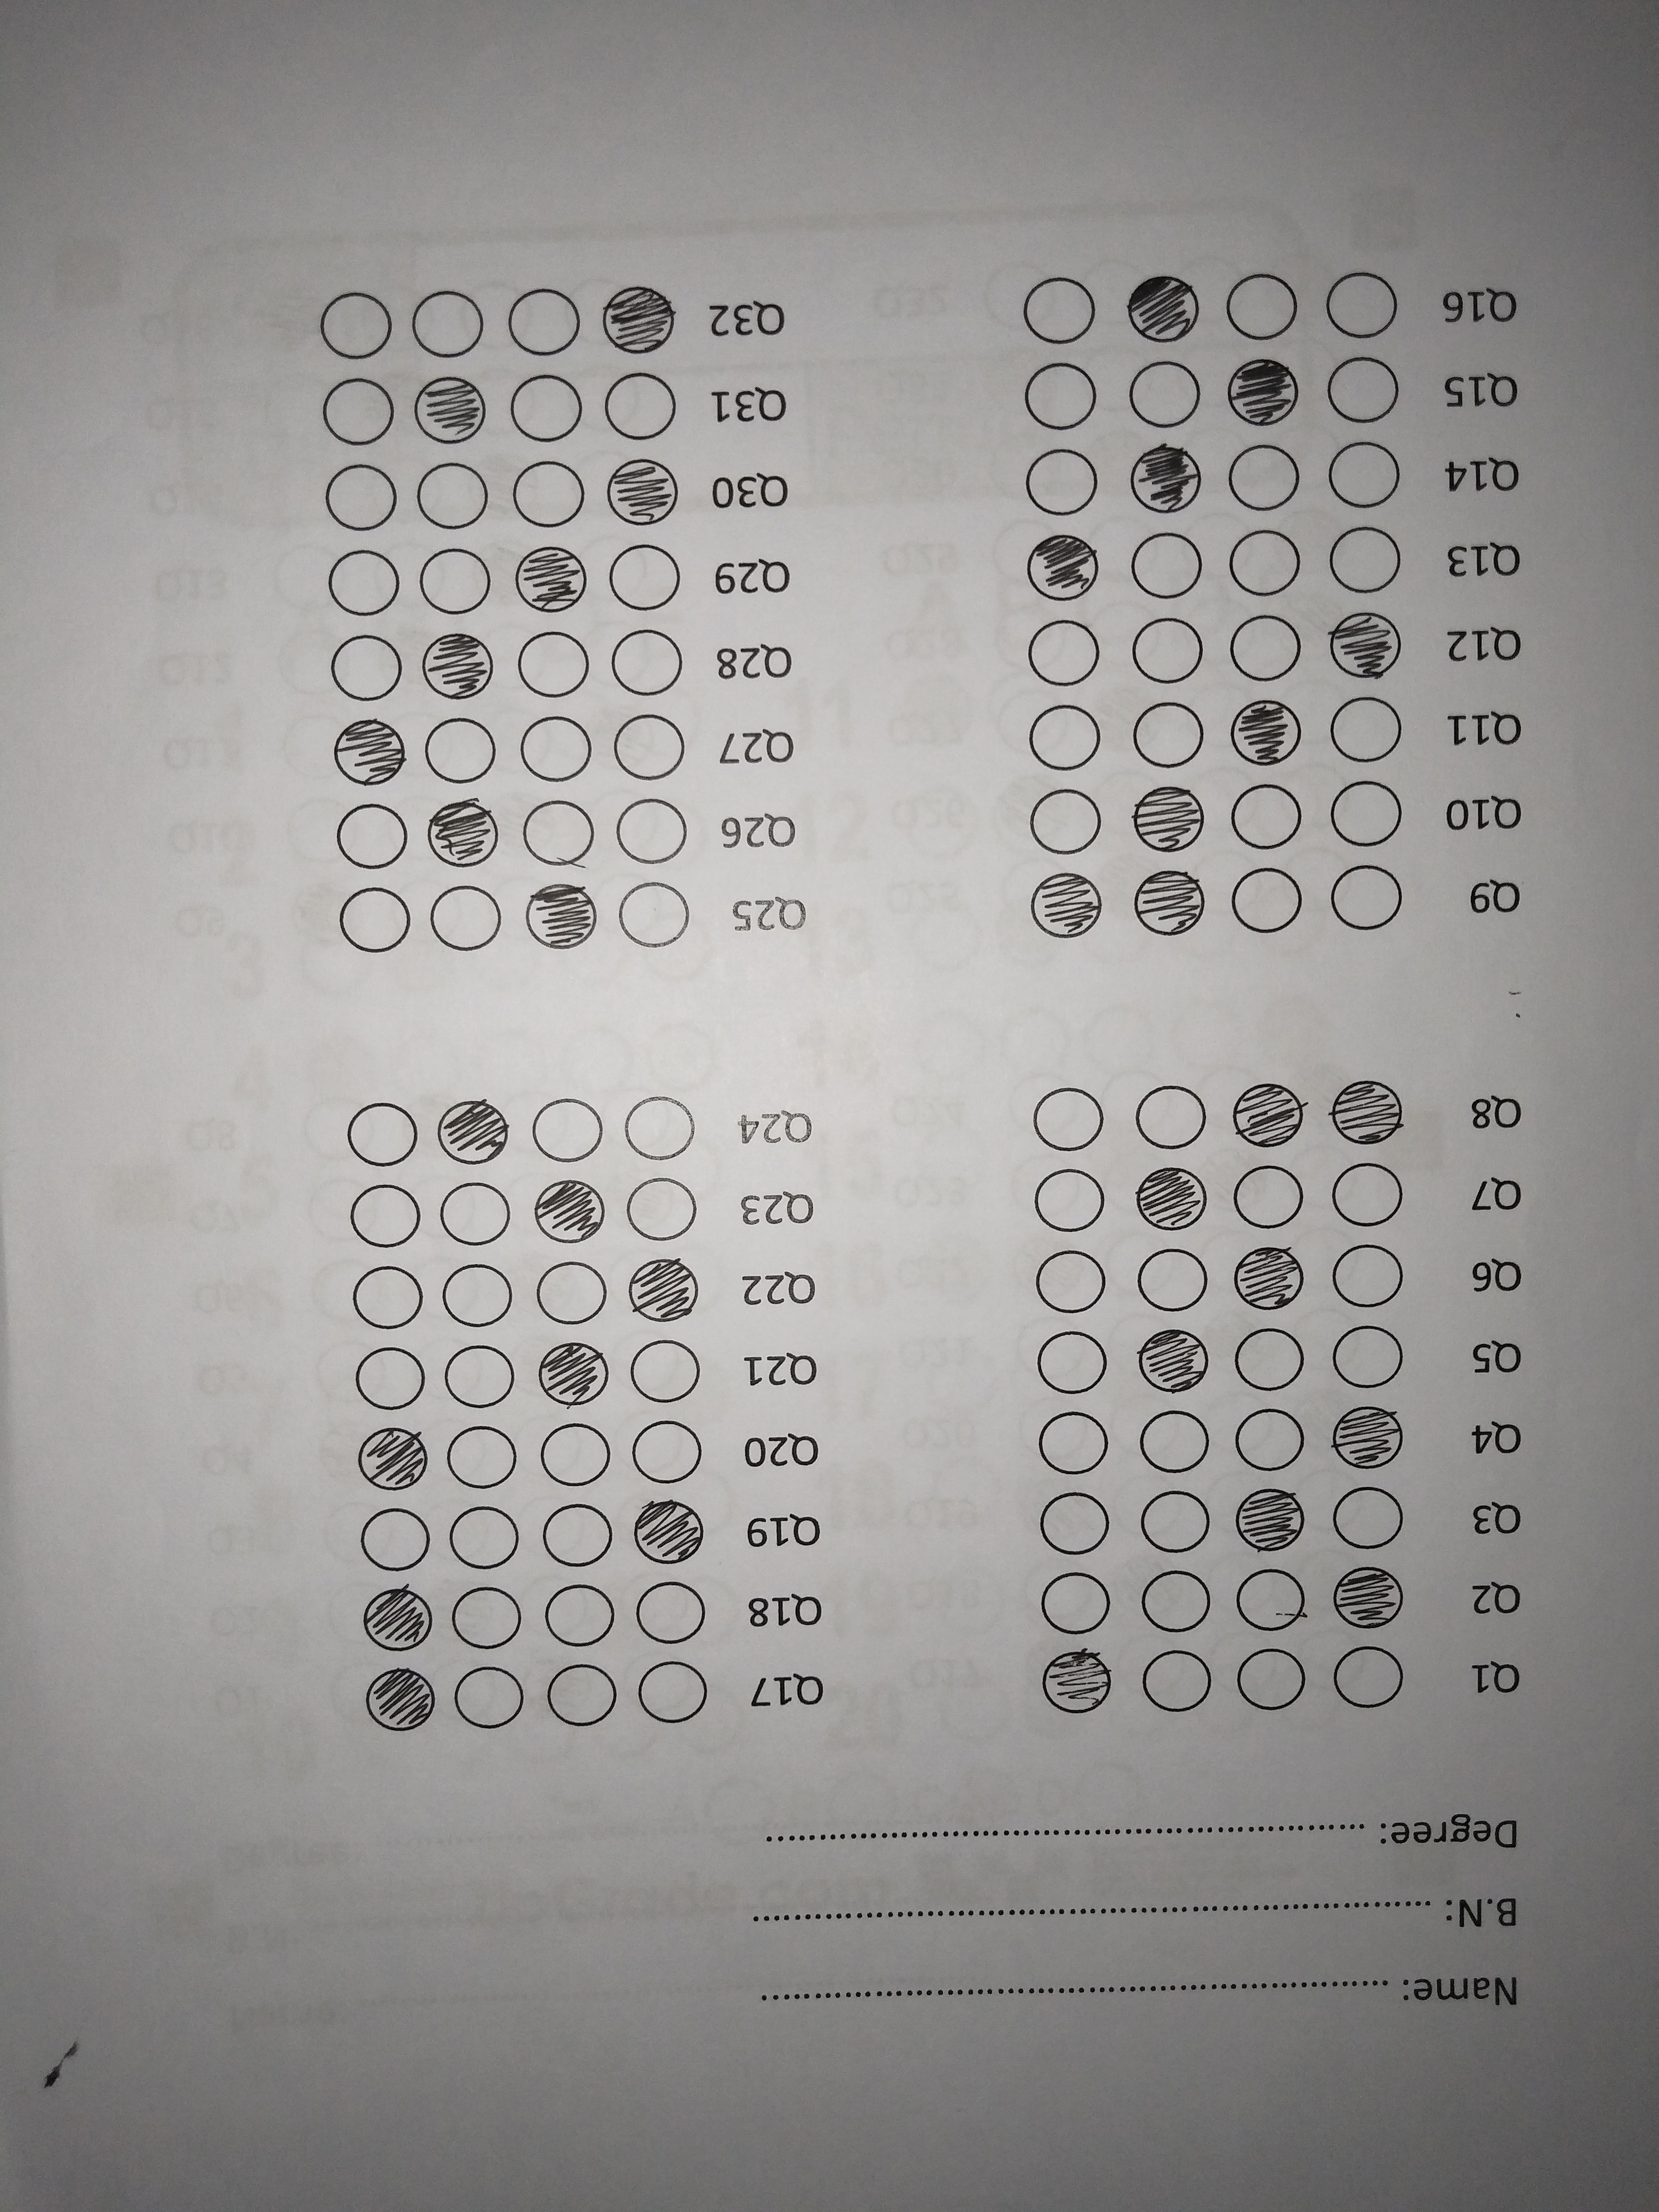not-c: (495, 625, 605, 705), (1016, 1400, 1122, 1482), (1317, 263, 1412, 354), (305, 284, 403, 371), (1314, 688, 1413, 773), (596, 533, 692, 620), (336, 1343, 436, 1426), (1316, 521, 1415, 604), (317, 880, 420, 960), (321, 791, 416, 874), (305, 458, 404, 538), (502, 284, 592, 371), (518, 1087, 610, 1172), (1317, 430, 1412, 514), (308, 374, 410, 451), (1014, 1324, 1115, 1400), (1312, 352, 1415, 427), (1009, 617, 1108, 693), (1122, 1078, 1211, 1163), (1117, 524, 1209, 606), (1321, 1477, 1413, 1559), (333, 1097, 429, 1176), (1012, 698, 1108, 777), (1314, 777, 1413, 852), (427, 881, 514, 967), (404, 286, 493, 369), (1023, 1078, 1112, 1162), (1011, 272, 1101, 354), (1021, 1244, 1115, 1322), (1014, 361, 1112, 435), (1323, 1155, 1408, 1240), (319, 538, 406, 622), (619, 1083, 701, 1172), (324, 627, 415, 707), (1014, 782, 1110, 857), (1328, 1637, 1412, 1723), (1016, 442, 1103, 524), (1317, 860, 1406, 941), (1223, 1642, 1314, 1721), (338, 1259, 432, 1334), (1319, 1242, 1413, 1317), (1223, 439, 1309, 521), (1131, 1402, 1216, 1484), (1129, 1242, 1216, 1322), (516, 792, 605, 871), (498, 456, 589, 533), (620, 1418, 711, 1494), (599, 364, 683, 446), (626, 1576, 711, 1656), (1131, 1486, 1216, 1566), (1126, 611, 1213, 690), (1117, 355, 1208, 430), (1023, 1487, 1114, 1562), (335, 1177, 429, 1249), (416, 542, 500, 622), (610, 796, 694, 876), (542, 1658, 626, 1738), (1220, 268, 1303, 348), (436, 1252, 521, 1331), (1323, 1318, 1408, 1397), (443, 1341, 530, 1418), (413, 714, 504, 787), (497, 374, 589, 446), (1018, 1167, 1110, 1238), (608, 880, 692, 958), (526, 1252, 610, 1331), (441, 1421, 525, 1500), (446, 1667, 530, 1745), (615, 1172, 702, 1247), (629, 1658, 716, 1733), (443, 1585, 525, 1663), (408, 458, 491, 535), (1223, 1325, 1310, 1399), (1129, 697, 1211, 773), (1227, 866, 1309, 942), (533, 1501, 619, 1575), (349, 1503, 434, 1576), (1225, 1162, 1312, 1233), (1223, 608, 1302, 686), (610, 711, 690, 787), (530, 1421, 612, 1496), (537, 1580, 619, 1655), (1220, 526, 1303, 599), (1225, 1564, 1310, 1635), (441, 1505, 528, 1575), (1129, 1569, 1216, 1639), (605, 625, 687, 698), (1133, 1646, 1216, 1717), (1222, 782, 1307, 852), (624, 1334, 701, 1411), (514, 711, 592, 786), (1227, 1404, 1309, 1474), (1032, 1571, 1115, 1637), (434, 1176, 511, 1247)
taken-c: (601, 282, 680, 357), (605, 455, 683, 529), (418, 625, 497, 700), (1129, 862, 1208, 937), (1330, 1071, 1408, 1146), (512, 540, 589, 615), (523, 878, 599, 953), (1126, 270, 1202, 345), (1129, 439, 1204, 516), (1127, 780, 1206, 853), (1138, 1324, 1216, 1397), (1229, 1244, 1309, 1315), (1028, 531, 1103, 606), (1232, 1076, 1309, 1150), (413, 373, 488, 446), (425, 796, 500, 869), (1225, 357, 1300, 430), (1330, 608, 1405, 681), (1133, 1160, 1209, 1231), (622, 1254, 699, 1325), (629, 1494, 706, 1566), (1229, 697, 1303, 768), (537, 1336, 612, 1407), (331, 718, 408, 787), (1331, 1402, 1408, 1472), (533, 1174, 606, 1245), (1028, 869, 1103, 939), (355, 1423, 430, 1493), (362, 1583, 437, 1653), (1232, 1486, 1309, 1554), (361, 1665, 437, 1733), (1333, 1561, 1408, 1629), (437, 1097, 512, 1165), (1037, 1648, 1115, 1712)
